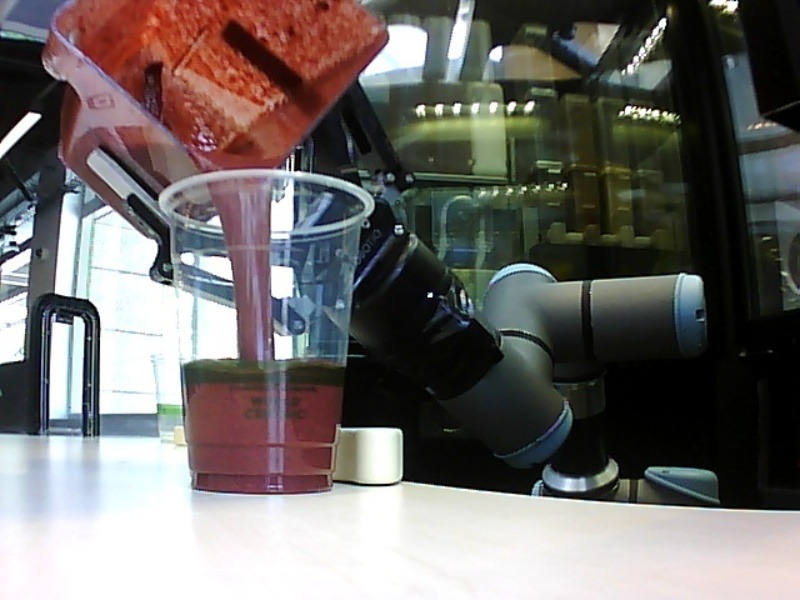cup: (155, 164, 380, 501)
limit: (178, 344, 348, 381)
